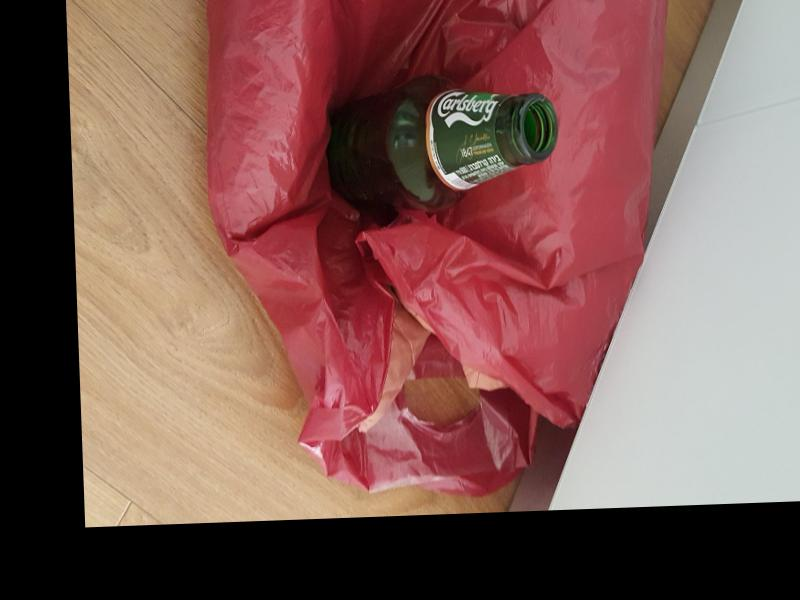Beer: (322, 72, 558, 215)
